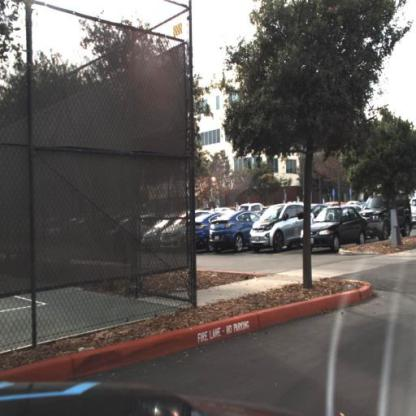car: (299, 205, 371, 255), (248, 198, 302, 253), (361, 189, 415, 241), (210, 210, 253, 254), (187, 211, 232, 251), (158, 214, 197, 250), (194, 212, 213, 255)
